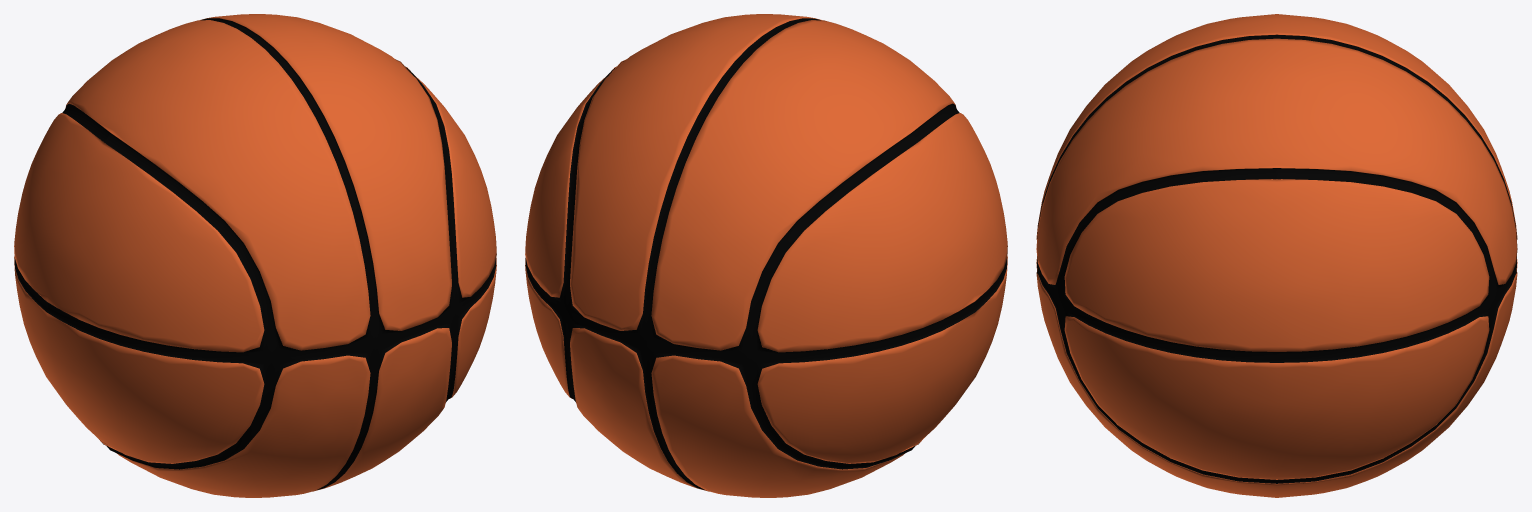
The model's file is bouncing ball no animation.fbx.
The picture shows the model from 3 angles, left to right: view 1: azimuth 30°, elevation 25°; view 2: azimuth 150°, elevation 25°; view 3: azimuth 270°, elevation 25°; orthographic projection.
Visible parts, largest first — view 1: Basketball; view 2: Basketball; view 3: Basketball.
Part boxes in pixels (x1,y1,x2,y2): Basketball: [14, 14, 496, 497]; Basketball: [525, 14, 1007, 497]; Basketball: [1036, 14, 1517, 497].
Size of the model in its own units: 62.71 by 63.02 by 62.6.
